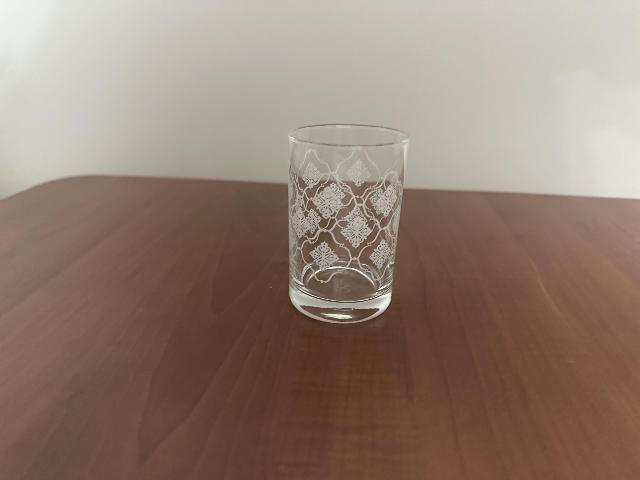Cam: (271, 108, 408, 322)
